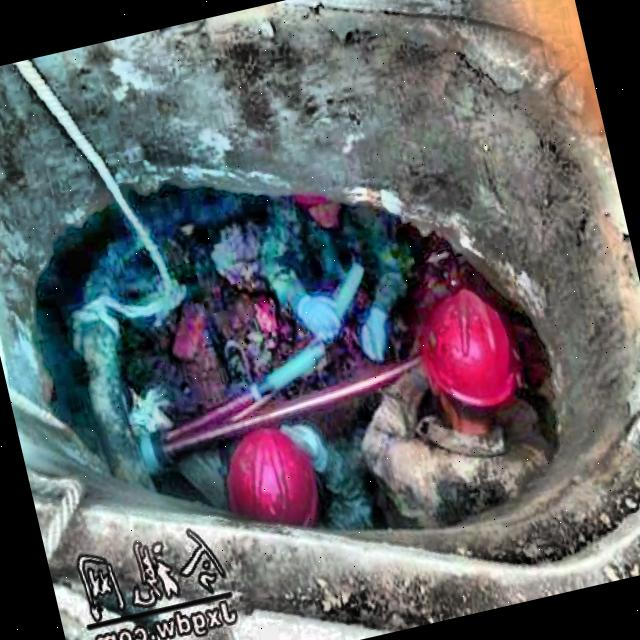helmet: (396, 282, 532, 446), (204, 411, 346, 556)
